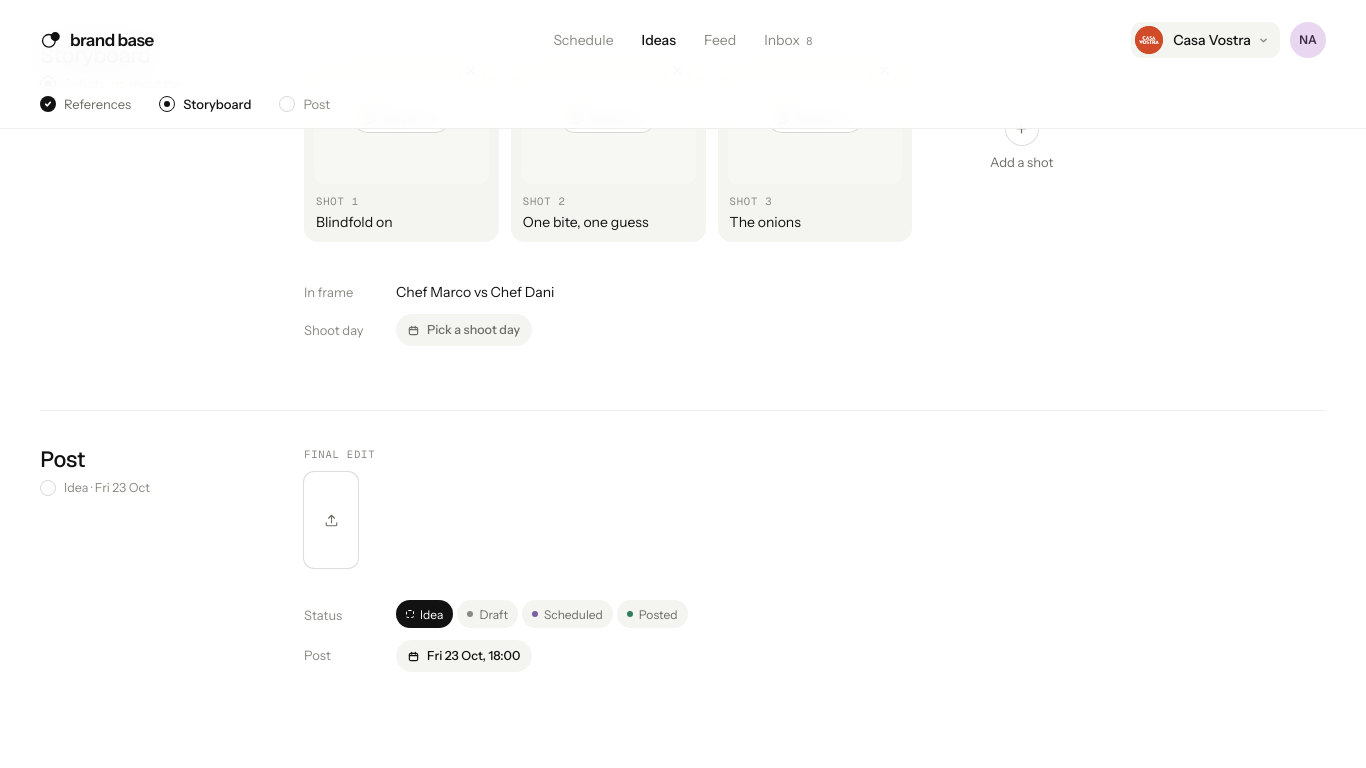
it: an idea page › makes the idea a post on the calendar when a status is picked
(page scrolled)
Step 1. Click the radio button labelled "Scheduled" → (567, 614), box left=522, top=600, right=613, bottom=628
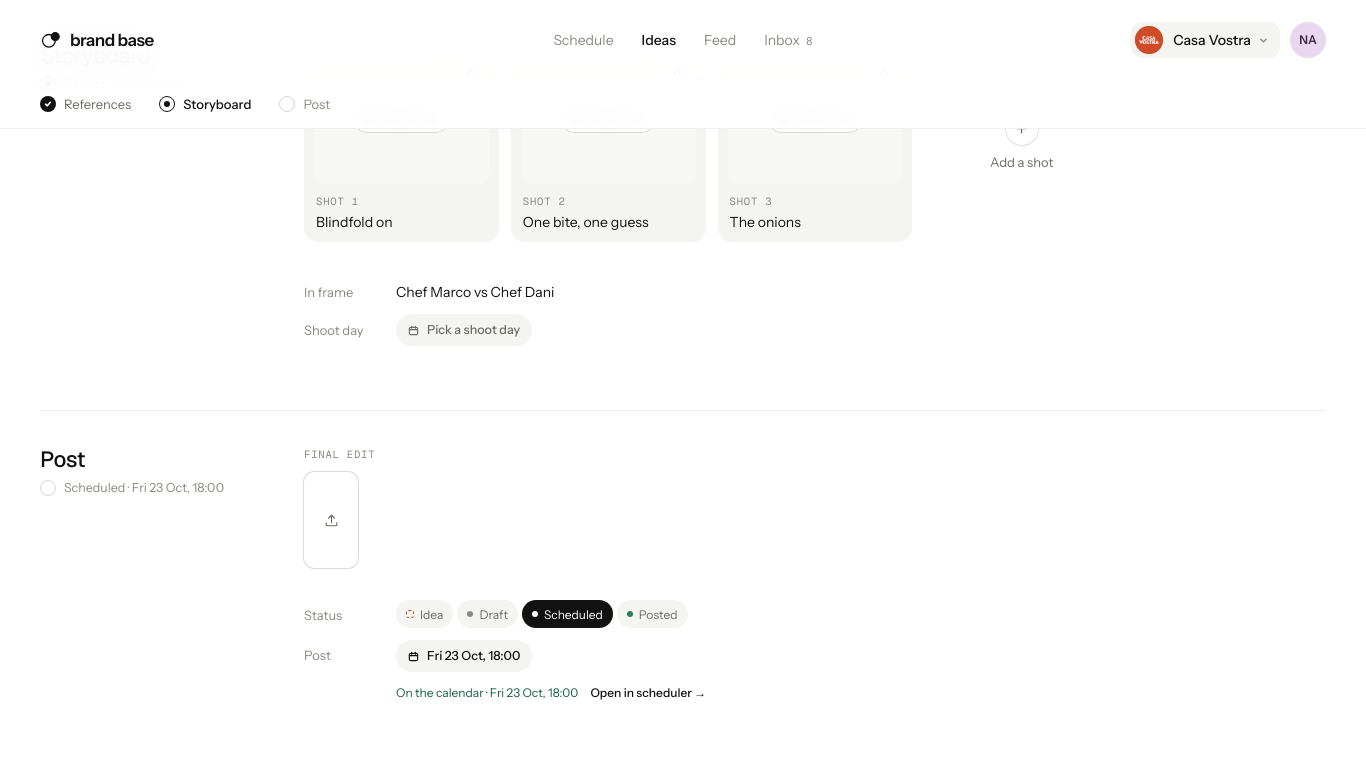
Result: the link "On the calendar · Fri 23 Oct, 18:00" is shown at left=396, top=684, right=578, bottom=702
Result: the link "Open in scheduler →" is shown at left=590, top=684, right=706, bottom=702
